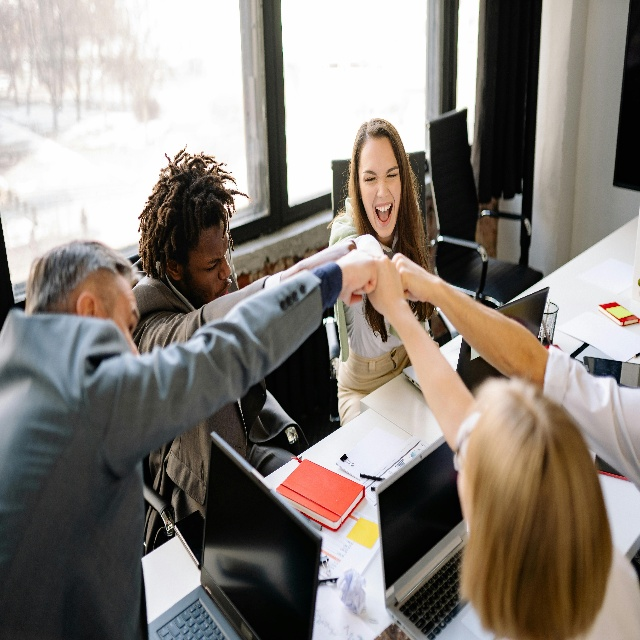Sin_guantes: (366, 254, 404, 321), (338, 248, 378, 307), (392, 251, 434, 302), (315, 238, 355, 267)
